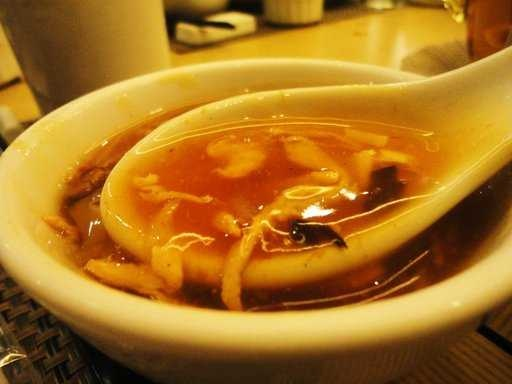soup: (51, 44, 473, 320)
